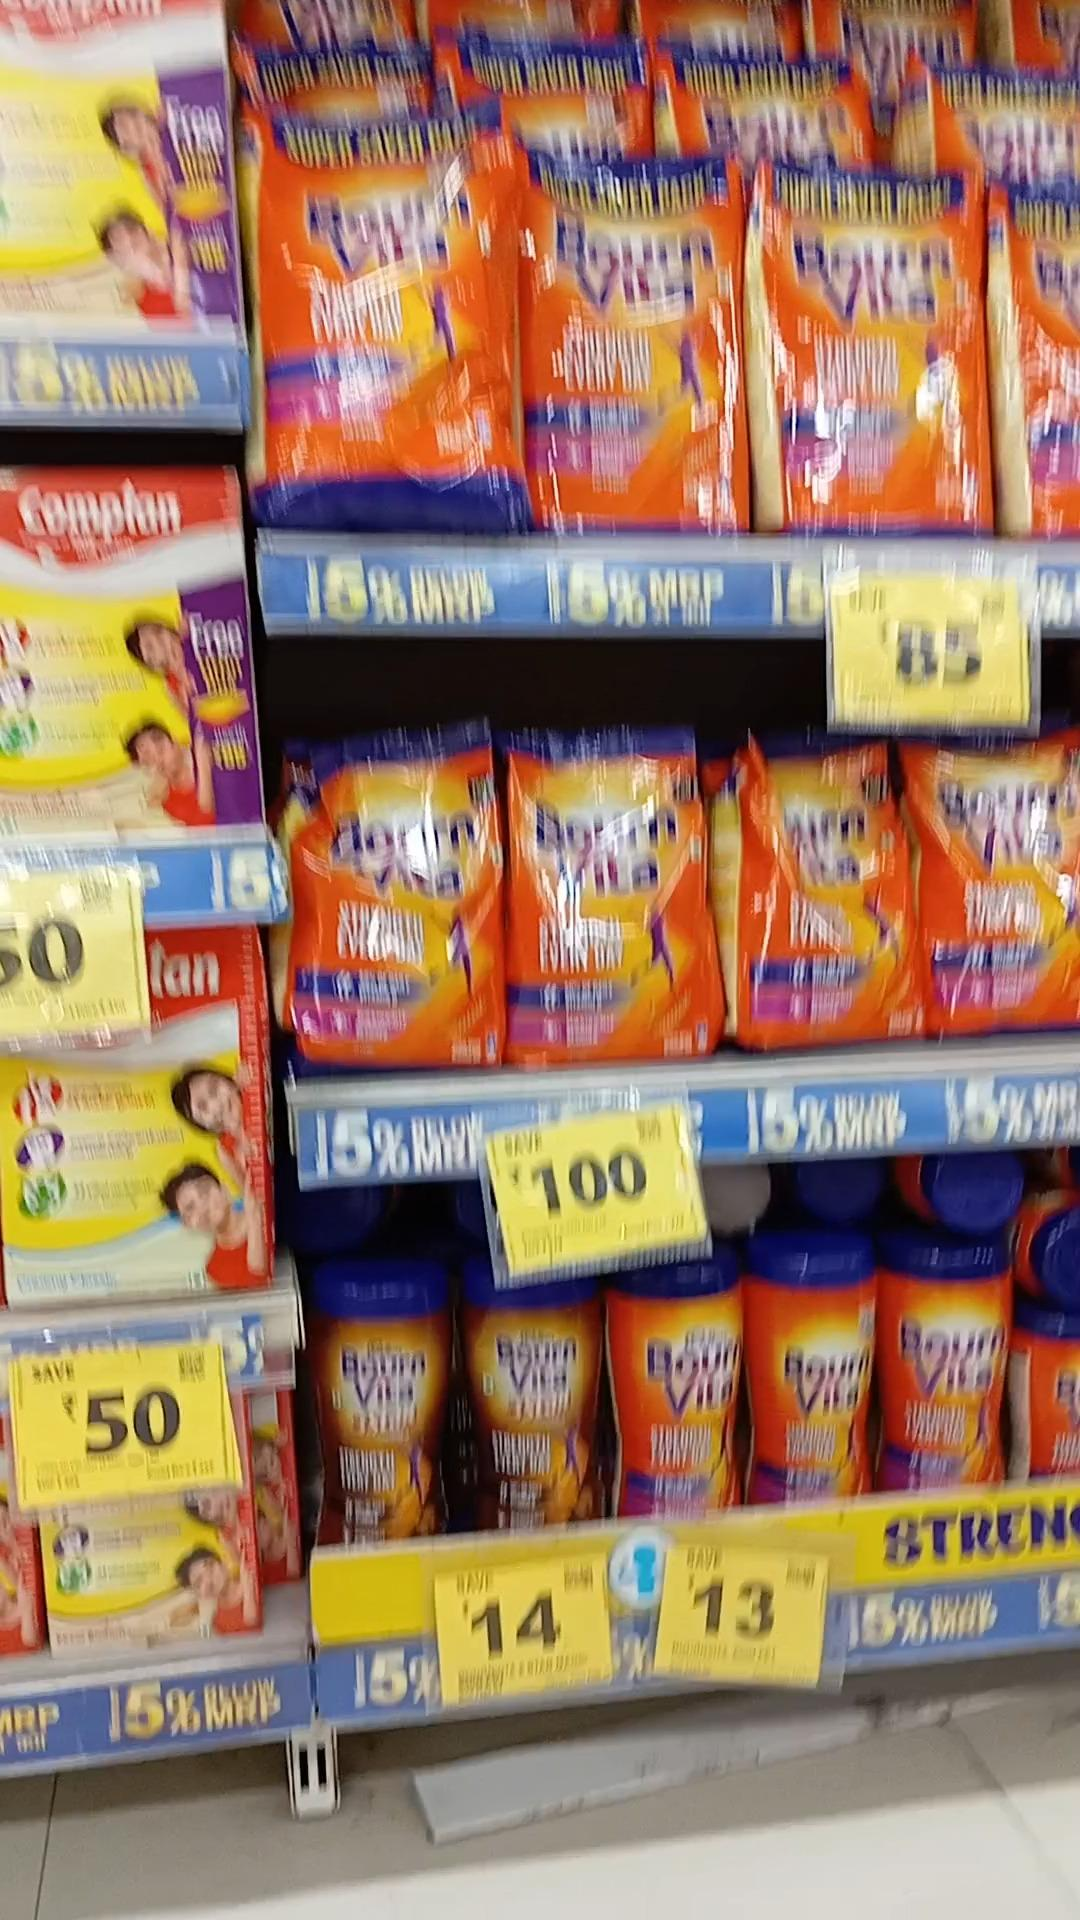BOURN_VITA_1_KG_POUCH: (274, 109, 514, 531), (748, 162, 992, 537), (524, 156, 733, 533)
BOURN_VITA_500_G_JAR: (616, 1253, 748, 1538), (876, 1234, 1002, 1487), (752, 1236, 869, 1502)
BOURN_VITA_750_G_POUCH: (505, 721, 708, 1065), (290, 720, 491, 1067), (719, 729, 919, 1050), (920, 741, 1080, 1033)
BOURN_VITA_FIVE_STAR_MAGIC_500_G_JAR: (305, 1271, 452, 1538), (462, 1287, 607, 1536)
COMPLAN_CREAMY_CLASSIC_500_G_PACK: (8, 1029, 274, 1296)
COMPLAN_KESAR_BADAM_500_GMS_PACK: (0, 472, 268, 825), (49, 1493, 265, 1658)
